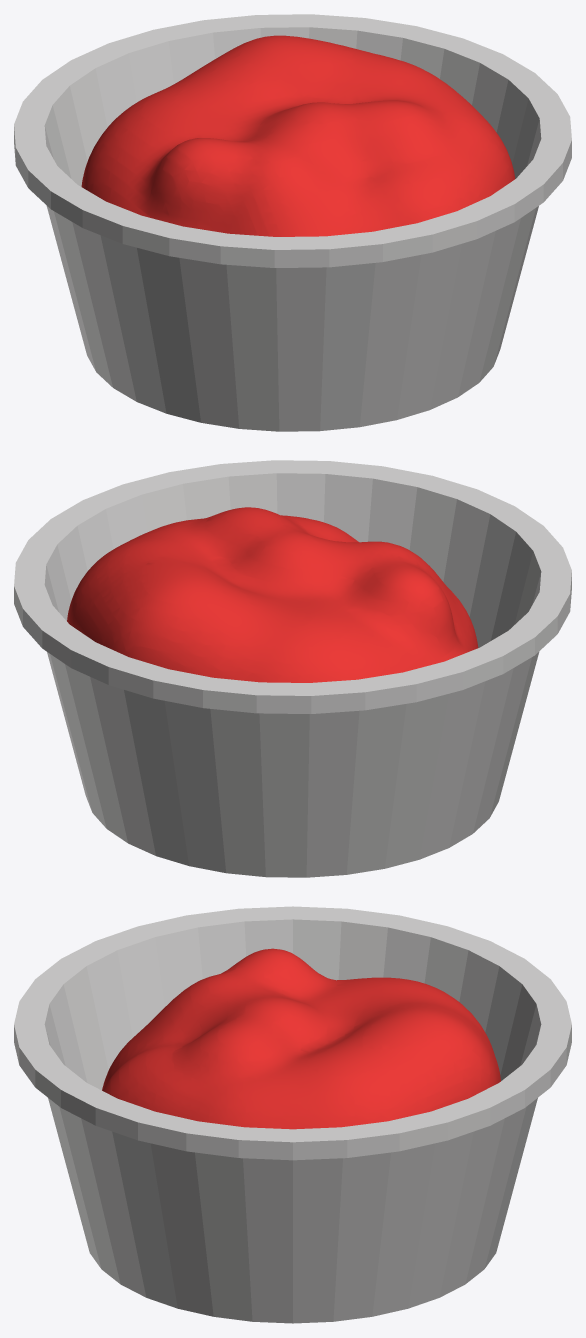
File: ketchup.fbx
The picture shows the model from 3 angles, top to bottom: view 1: azimuth 30°, elevation 25°; view 2: azimuth 150°, elevation 25°; view 3: azimuth 270°, elevation 25°; orthographic projection.
Parts seen in each view (by area): view 1: Bowl, Ketchup; view 2: Bowl, Ketchup; view 3: Bowl, Ketchup.
Part boxes in pixels (x1,y1,x2,y2): Bowl: (14,14,571,431); Ketchup: (81,35,515,236); Bowl: (14,460,571,877); Ketchup: (67,507,478,682); Bowl: (14,906,571,1323); Ketchup: (102,948,500,1129).
Size of the model in its own units: 14 by 6.73 by 14.
